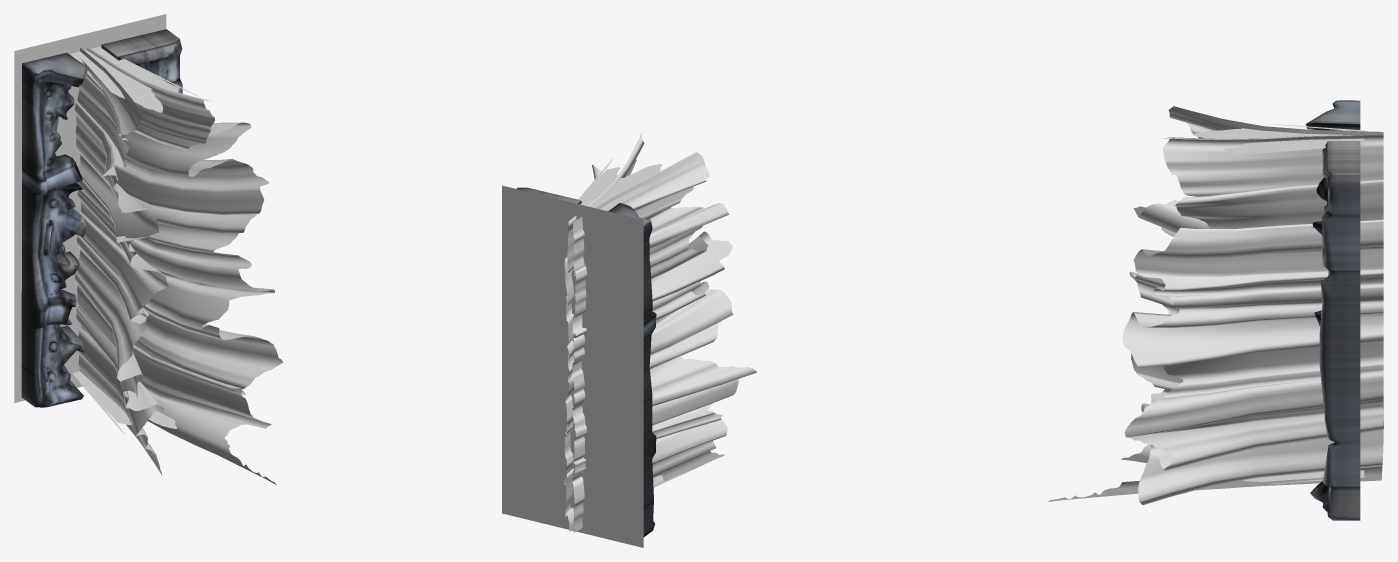
The model's file is MetalDoorBTFO.fbx.
The picture shows the model from 3 angles, left to right: view 1: azimuth 30°, elevation 25°; view 2: azimuth 150°, elevation 25°; view 3: azimuth 270°, elevation 25°; orthographic projection. The views are drawn at different scales.
Visible parts, largest first — view 1: MetalDoorBTFO; view 2: MetalDoorBTFO; view 3: MetalDoorBTFO.
Part boxes in pixels (left/top/right/bottom): MetalDoorBTFO: left=14, top=14, right=282, bottom=484; MetalDoorBTFO: left=502, top=132, right=756, bottom=547; MetalDoorBTFO: left=1048, top=100, right=1383, bottom=520.
Bounding box in the file's own units: 214 × 207 × 204.
